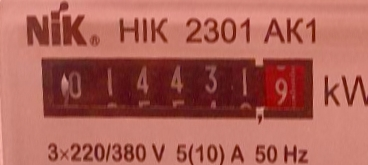0: (61, 66, 83, 100)
1: (98, 63, 117, 97), (235, 64, 249, 97)
3: (198, 62, 218, 95)
4: (129, 61, 151, 95), (164, 60, 183, 95)
9: (268, 74, 287, 105)
screen: (27, 38, 326, 137)
